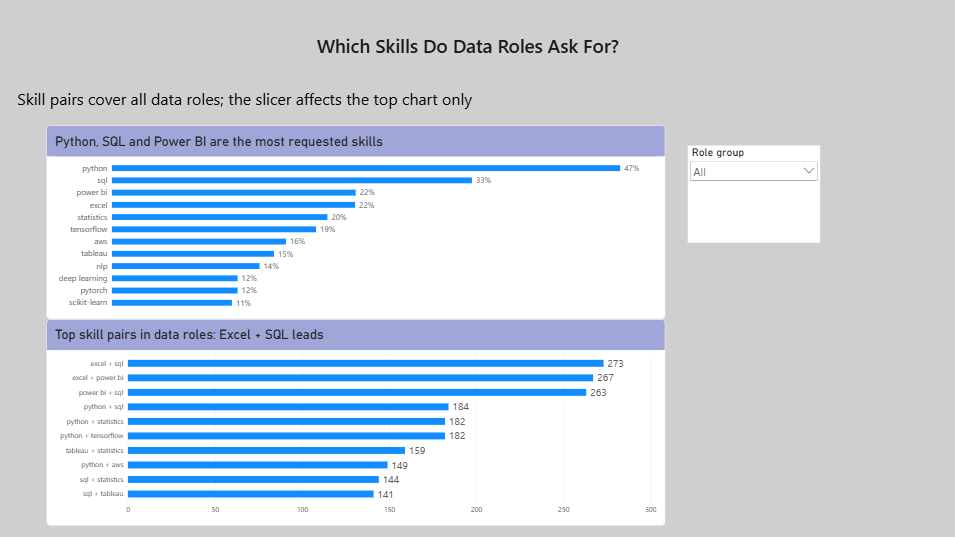

Layout of this report page (visuals, bound fields, positions):
{"tool":"powerbi","page":{"name":"Skills","canvas":[1920,1080],"ordinal":1},"visuals":[{"type":"clusteredBarChart","title":"Python, SQL and Power BI are the most requested skills","fields":{"Category":["job_skills.skill_name"],"Y":["jobs.Skill % of Jobs"]},"box":[95,255,1237.5,387.5],"z":0},{"type":"slicer","fields":{"Values":["jobs.role_group"]},"box":[1377.5,295,265.1,194.6],"z":2000},{"type":"textbox","box":[0,70,1875,185],"z":3000},{"type":"clusteredBarChart","title":"Top skill pairs in data roles: Excel + SQL leads","fields":{"Category":["skill_pairs.Skill Pair"],"Y":["Sum(skill_pairs.jobs_together)"]},"box":[95,642.5,1237.5,412.5],"z":3001}]}

Visuals, with their boxes in screenshot pixels (x1, y1, x2, y2), scaled from the page's 1920x1080 canvas onto the 955x537 screenshot:
"Python, SQL and Power BI are the most requested skills" clusteredBarChart: {"left": 47, "top": 127, "right": 663, "bottom": 319}
slicer - jobs.role_group: {"left": 685, "top": 147, "right": 817, "bottom": 243}
textbox: {"left": 0, "top": 35, "right": 933, "bottom": 127}
"Top skill pairs in data roles: Excel + SQL leads" clusteredBarChart: {"left": 47, "top": 319, "right": 663, "bottom": 525}
